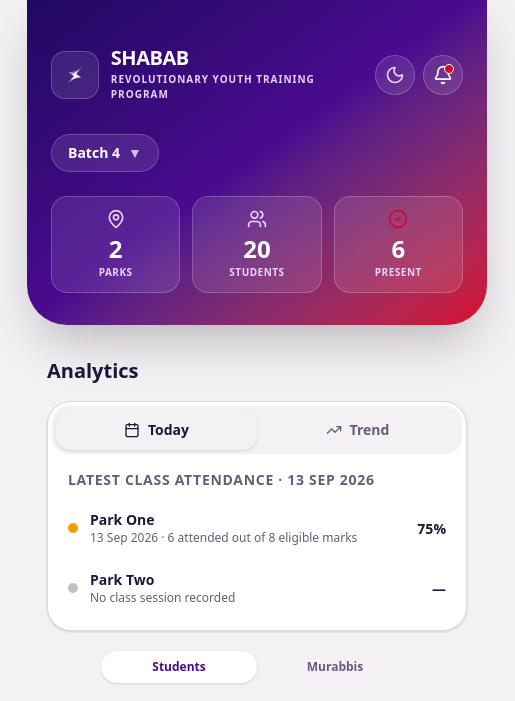
Test: MobileHomeDashboard › renders a real graph and clarified period summary for Trend
Click the button "Trend".
click(358, 430)  # box [257,410,458,450]
(page scrolled)
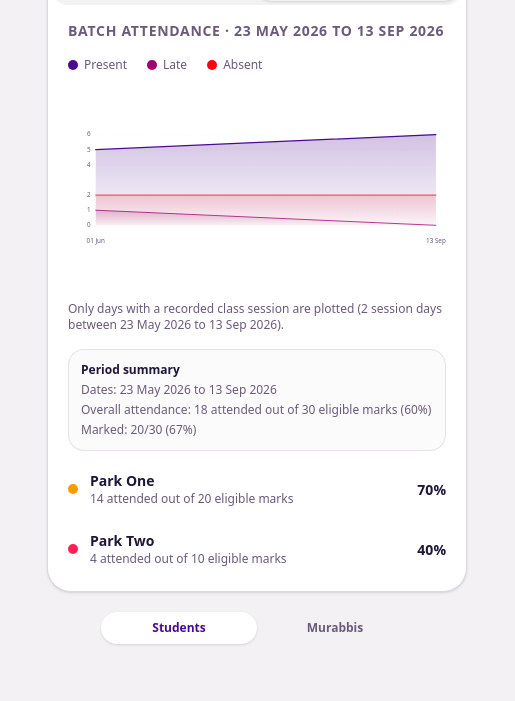
Expected: the picture named "Attendance by day, 23 May 2026 to 13 Sep 2026" is shown, [68,57,446,285]
Expected: the text "Only days with a recorded class session are plotted (2 session days between 23 May 2026 to 13 Sep 2026)." is shown, [68,300,442,333]
Expected: the text "Dates: 23 May 2026 to 13 Sep 2026" is shown, [81,381,277,398]
